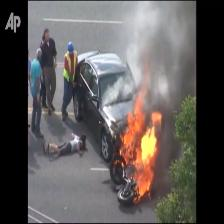fire: (125, 107, 156, 195)
smoke: (136, 3, 195, 105)
